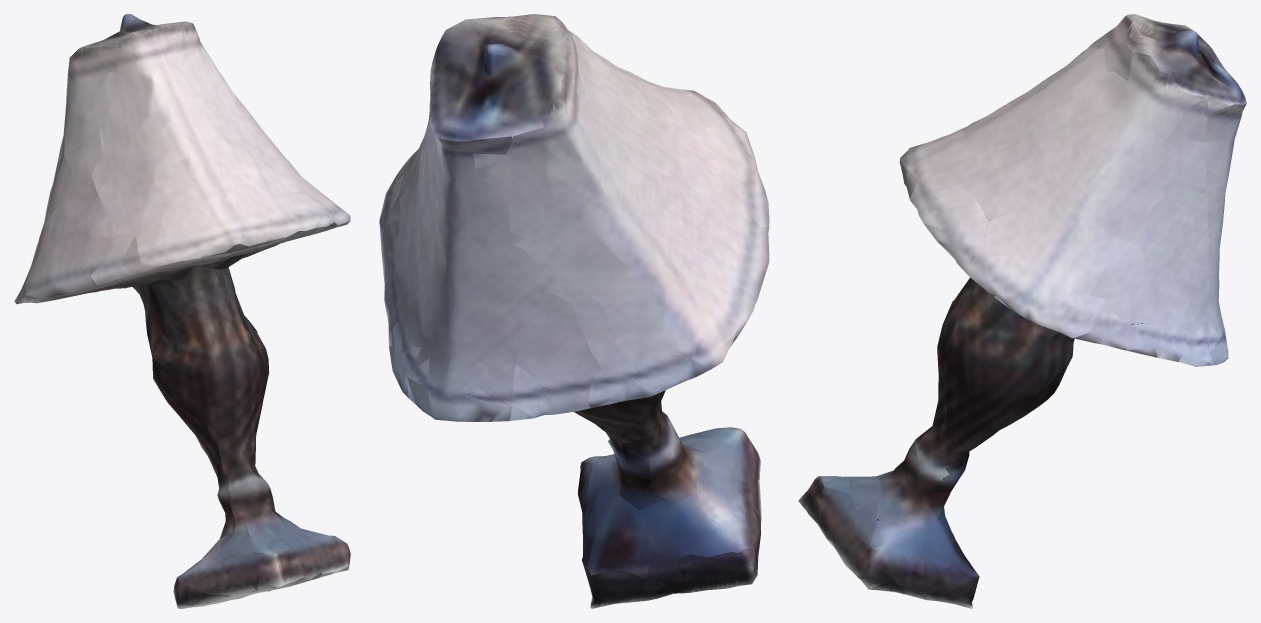
3 renders of one model, left to right at view 1: azimuth 30°, elevation 25°; view 2: azimuth 150°, elevation 25°; view 3: azimuth 270°, elevation 25°, orthographic. The views are drawn at different scales.
Visible parts, largest first — view 1: world; view 2: world; view 3: world.
Part boxes in pixels (x1,y1,x2,y2): world: (14, 14, 350, 608); world: (379, 14, 769, 608); world: (798, 14, 1246, 608).
Size of the model in its own units: 0.296 by 0.5006 by 0.3558.
Materials: 1 (1 with a texture image).
